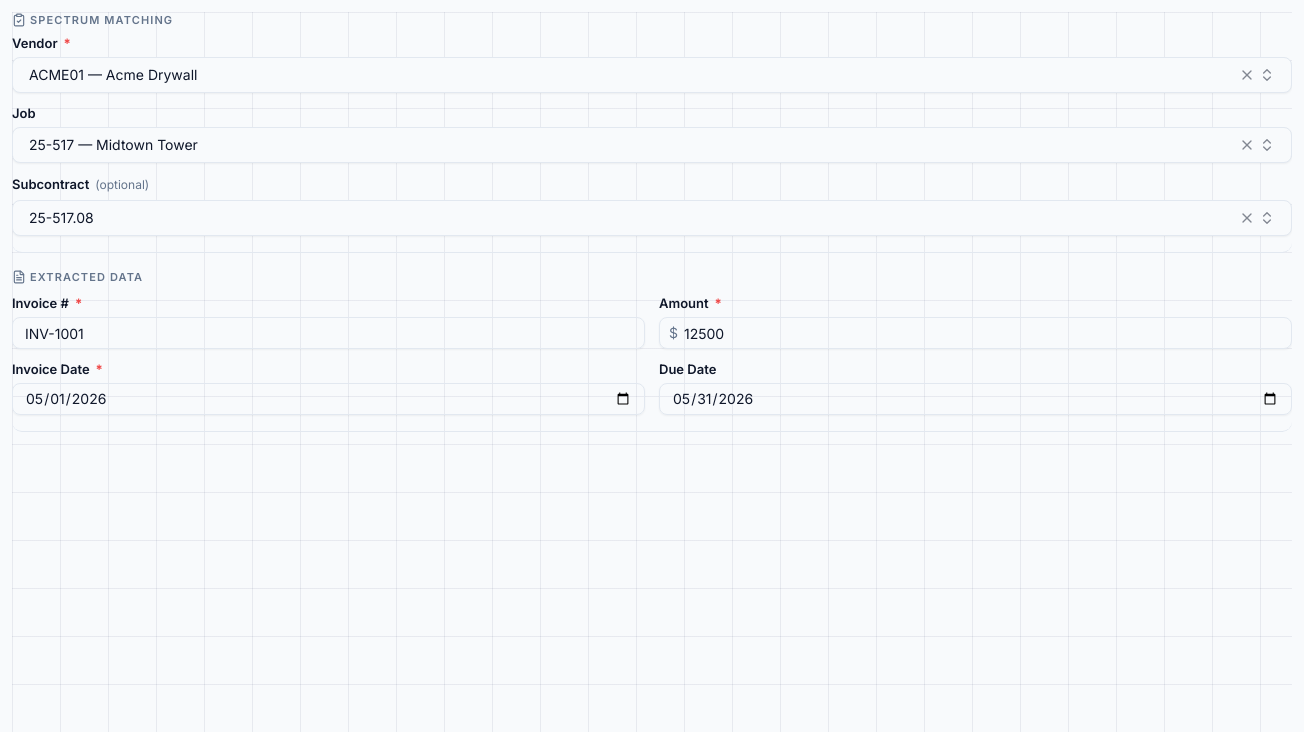
Test: InvoiceDetailForm › dirty-state tracking › shared Field marks invoice number as edited
Replace the text in the field with placeholder "Invoice number" with "X" at (328, 333), box top-left (12, 317), bottom-right (645, 349)
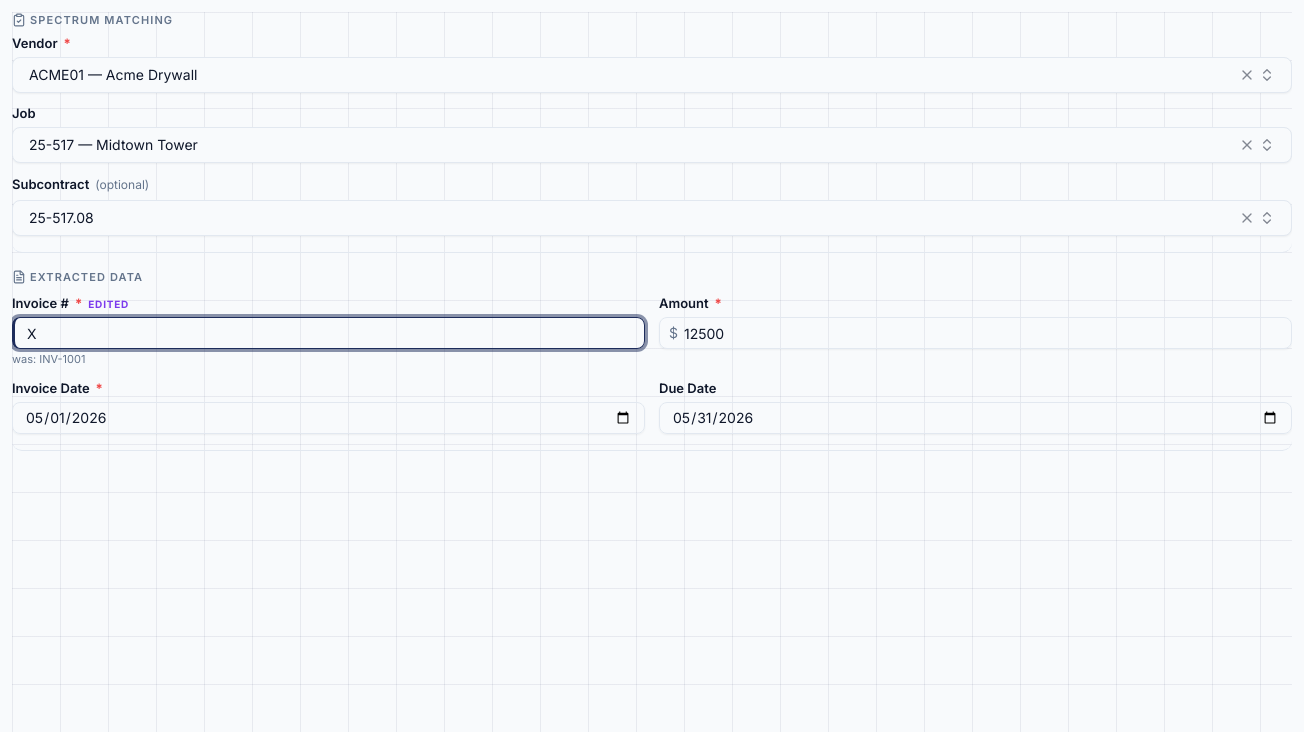
Now the text "was: INV-1001" is shown, box top-left (12, 352), bottom-right (85, 366)
Now the text "EDITED" is shown, box top-left (88, 298), bottom-right (129, 308)
